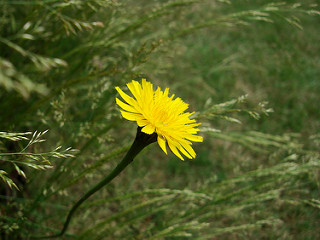dandelion yellow: (112, 77, 204, 164)
